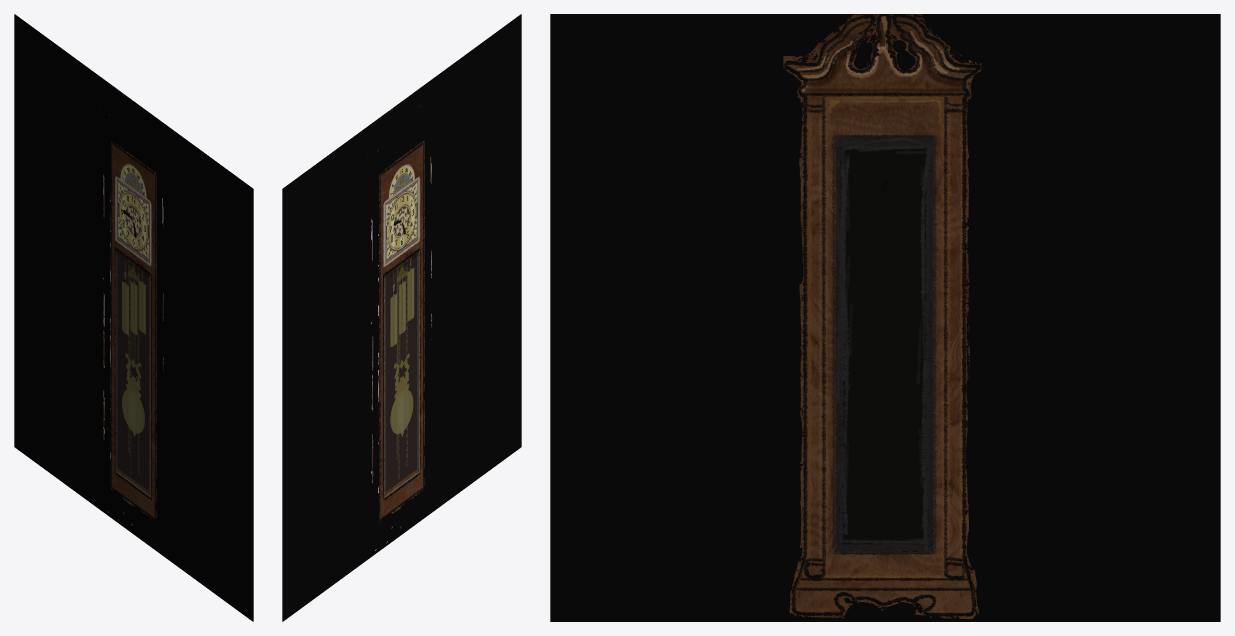
The model's file is pendulum_clock_asset.glb.
3 views of the same model, side by side, from view 1: azimuth 30°, elevation 25°; view 2: azimuth 150°, elevation 25°; view 3: azimuth 270°, elevation 25° (orthographic). The views are drawn at different scales.
Parts seen in each view (by area): view 1: pendulum_clock_case (1), pendulum_clock_empty; view 2: pendulum_clock_case (1), pendulum_clock_empty; view 3: pendulum_clock_empty.
Part boxes in pixels (box(x1,y1,x2,y2)): pendulum_clock_case (1): box(14, 14, 253, 621); pendulum_clock_empty: box(15, 14, 253, 621); pendulum_clock_case (1): box(282, 14, 521, 621); pendulum_clock_empty: box(282, 14, 520, 621); pendulum_clock_empty: box(550, 14, 1220, 621).
Size of the model in its own units: 0.0111 by 1 by 1.
Materials: 4 (4 with a texture image).
